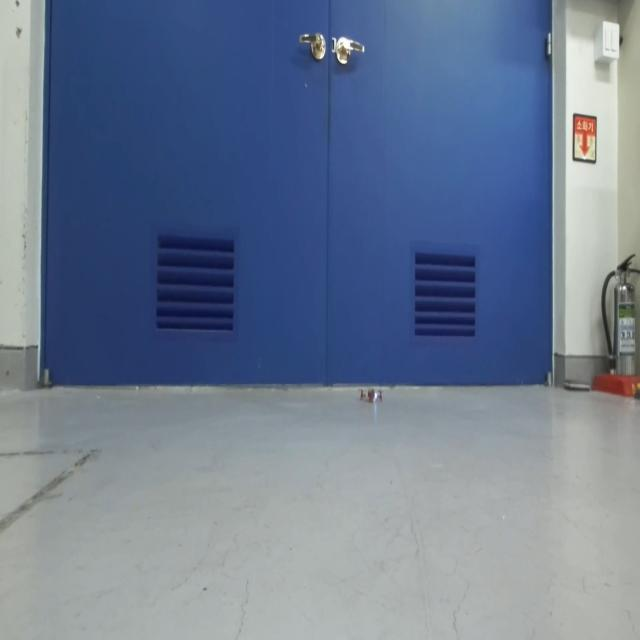crazyflie: (358, 384, 384, 408)
